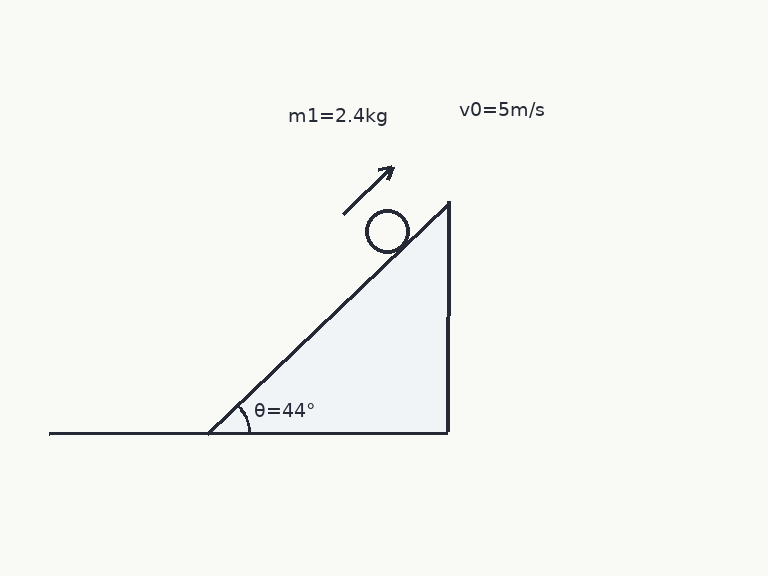ball: (363, 207, 411, 255)
ramp: (207, 201, 449, 435)
